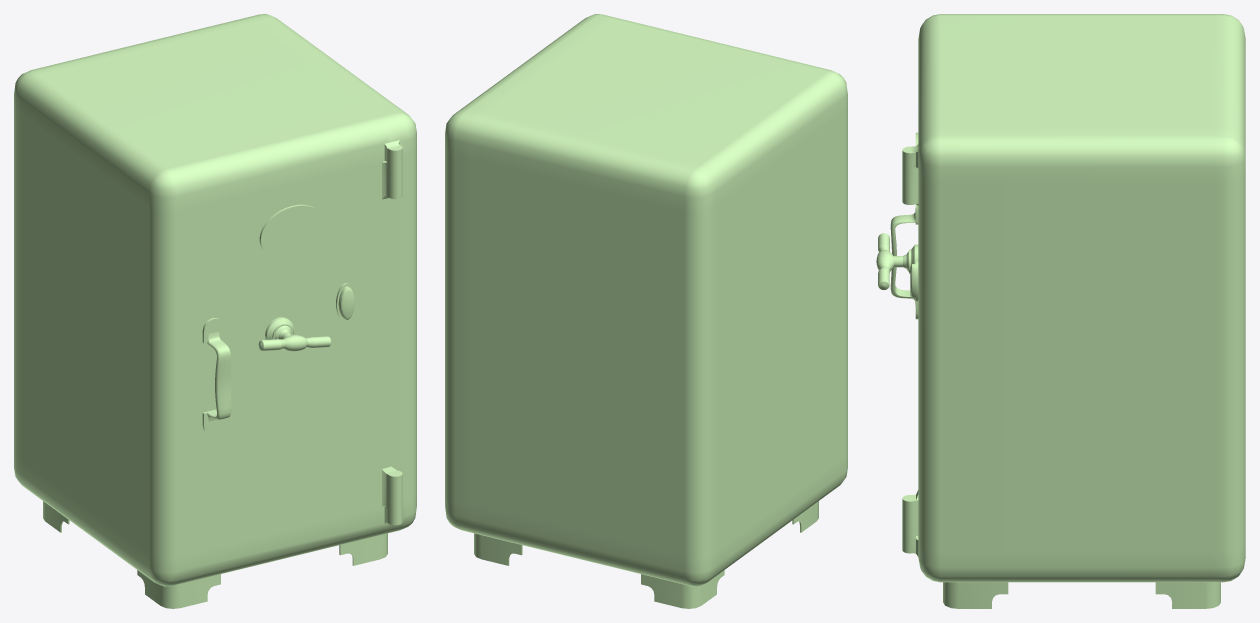
File: Safe.fbx
3 renders of one model, left to right at view 1: azimuth 30°, elevation 25°; view 2: azimuth 150°, elevation 25°; view 3: azimuth 270°, elevation 25°, orthographic. The views are drawn at different scales.
Visible parts, largest first — view 1: Safe; view 2: Safe; view 3: Safe.
Boxes of the visible parts, <box> form: Safe: <box>14,14,416,608</box>; Safe: <box>445,14,847,608</box>; Safe: <box>876,14,1245,608</box>.
Bounding box in the file's own units: 40 × 64 × 45.15.
